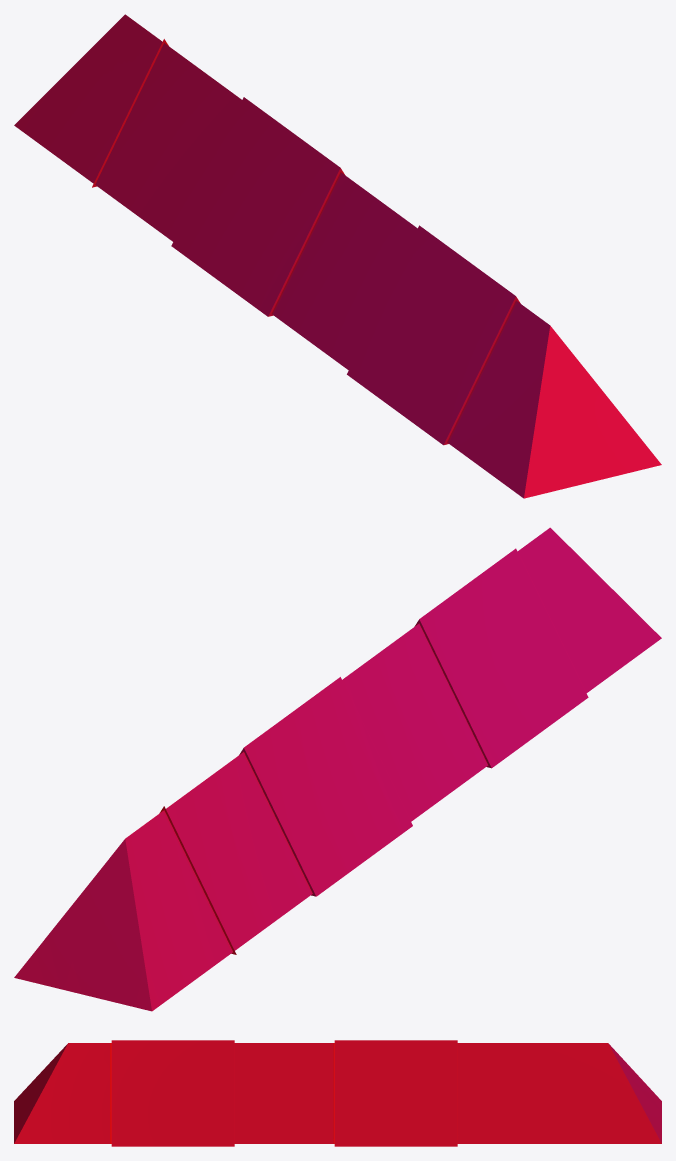
Rendered from Roof Tiles 5.fbx.
The picture shows the model from 3 angles, top to bottom: view 1: azimuth 30°, elevation 25°; view 2: azimuth 150°, elevation 25°; view 3: azimuth 270°, elevation 25°; orthographic projection. The views are drawn at different scales.
Visible parts, largest first — view 1: Roof Tiles 5; view 2: Roof Tiles 5; view 3: Roof Tiles 5.
Boxes of the visible parts, bbox=[...] form: Roof Tiles 5: bbox=[14, 14, 661, 498]; Roof Tiles 5: bbox=[14, 527, 661, 1011]; Roof Tiles 5: bbox=[14, 1040, 661, 1146].
Bounding box in the file's own units: 55.72 × 48.25 × 339.
1 material, 1 textured.
